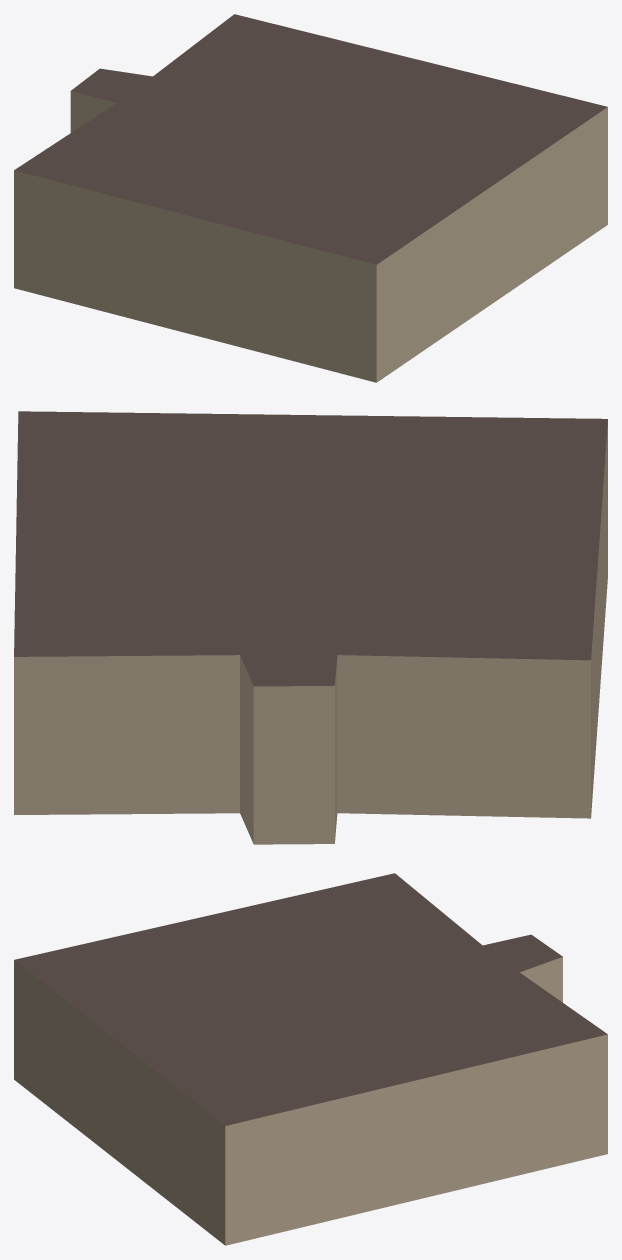
The picture shows the model from 3 angles, top to bottom: view 1: azimuth 30°, elevation 25°; view 2: azimuth 150°, elevation 25°; view 3: azimuth 270°, elevation 25°; orthographic projection. The views are drawn at different scales.
Visible parts, largest first — view 1: HP-w1512480743; view 2: HP-w1512480743; view 3: HP-w1512480743.
Boxes of the visible parts, x1=… form: HP-w1512480743: x1=14, y1=14, x2=607, y2=382; HP-w1512480743: x1=14, y1=411, x2=607, y2=844; HP-w1512480743: x1=14, y1=873, x2=607, y2=1245.
Bounding box in the file's own units: 40.77 × 9 × 40.47.
